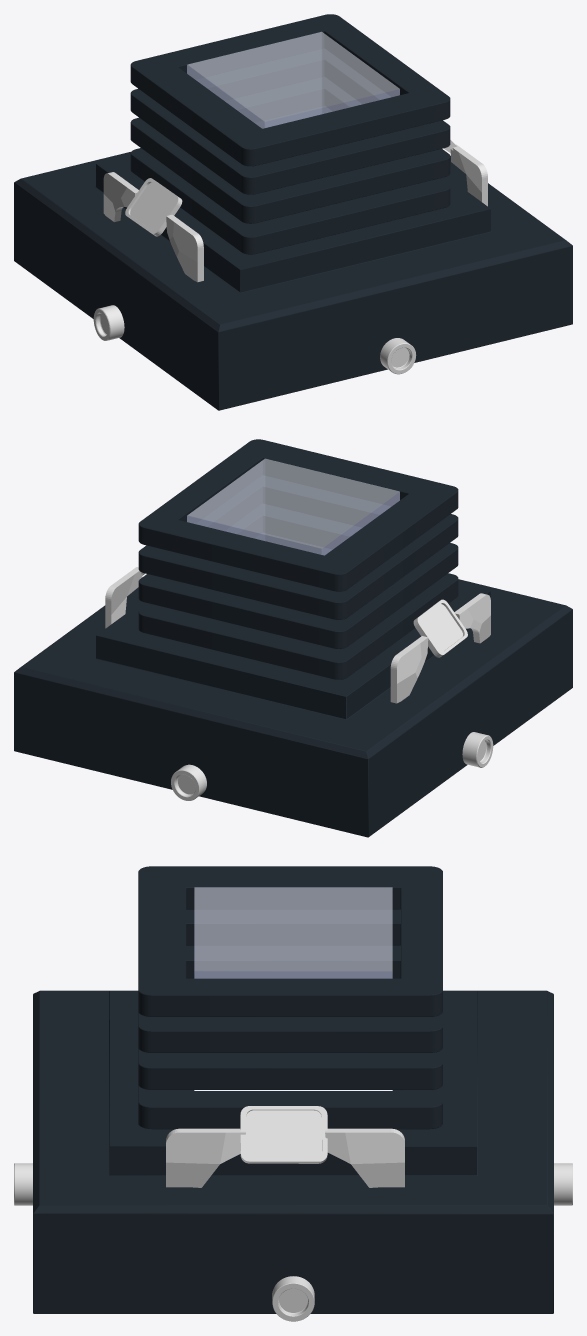
File: Synechron_city_Test_3.glb
3 views of the same model, one above another, from view 1: azimuth 30°, elevation 25°; view 2: azimuth 150°, elevation 25°; view 3: azimuth 270°, elevation 25° (orthographic). The views are drawn at different scales.
Visible parts, largest first — view 1: Main_platform, Sub_platform_1.001, Sub_platform_2, Sub_platform_3, Sub_platform_3.001, Cube.001, Plane.001, Cube, Cylinder.021, Cylinder.019; view 2: Main_platform, Sub_platform_1.001, Sub_platform_2, Sub_platform_3, Sub_platform_3.001, Cube.001, Plane.001, Cube, Cylinder.022, Cylinder.019; view 3: Main_platform, Sub_platform_1.001, Sub_platform_2, Sub_platform_3, Sub_platform_3.001, Cube, Plane, Cylinder.020, Cylinder.021, Cylinder.022.
Boxes of the visible parts, x1=… form: Main_platform: x1=14, y1=32, x2=572, y2=410; Sub_platform_1.001: x1=130, y1=14, x2=450, y2=166; Sub_platform_2: x1=130, y1=48, x2=450, y2=194; Sub_platform_3: x1=130, y1=76, x2=450, y2=223; Sub_platform_3.001: x1=130, y1=105, x2=450, y2=254; Cube.001: x1=103, y1=172, x2=203, y2=282; Plane.001: x1=125, y1=178, x2=182, y2=236; Cube: x1=450, y1=144, x2=487, y2=206; Cylinder.021: x1=380, y1=338, x2=416, y2=374; Cylinder.019: x1=93, y1=305, x2=124, y2=340; Main_platform: x1=14, y1=458, x2=572, y2=837; Sub_platform_1.001: x1=138, y1=439, x2=458, y2=591; Sub_platform_2: x1=138, y1=475, x2=458, y2=619; Sub_platform_3: x1=138, y1=503, x2=458, y2=648; Sub_platform_3.001: x1=138, y1=532, x2=458, y2=679; Cube.001: x1=390, y1=593, x2=490, y2=703; Plane.001: x1=413, y1=599, x2=467, y2=657; Cube: x1=105, y1=567, x2=142, y2=628; Cylinder.022: x1=171, y1=764, x2=206, y2=800; Cylinder.019: x1=462, y1=732, x2=493, y2=767; Main_platform: x1=33, y1=887, x2=553, y2=1313; Sub_platform_1.001: x1=138, y1=866, x2=442, y2=1016; Sub_platform_2: x1=138, y1=909, x2=442, y2=1052; Sub_platform_3: x1=138, y1=945, x2=442, y2=1089; Sub_platform_3.001: x1=138, y1=1085, x2=442, y2=1129; Cube: x1=166, y1=1128, x2=404, y2=1187; Plane: x1=240, y1=1106, x2=327, y2=1163; Cylinder.020: x1=272, y1=1276, x2=314, y2=1321; Cylinder.021: x1=14, y1=1163, x2=32, y2=1205; Cylinder.022: x1=554, y1=1163, x2=572, y2=1205.
Size of what is drawn, in the model's own units: 11.18 by 6.08 by 11.18.
